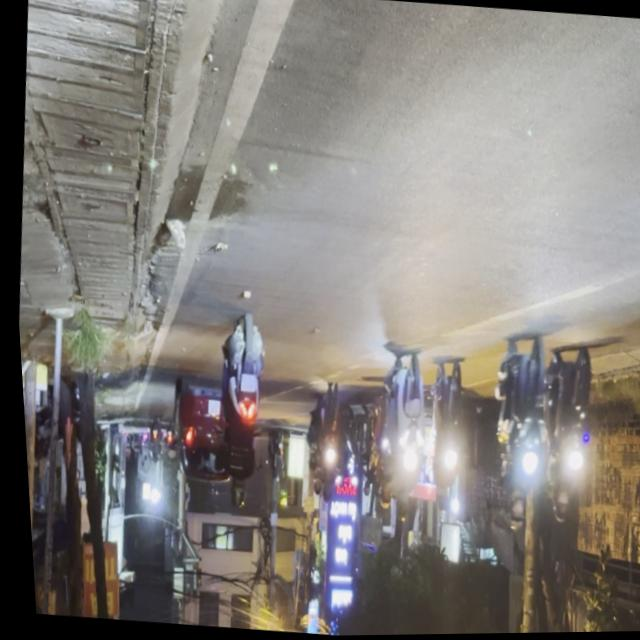helmet: (501, 500, 521, 534)
licenseplate: (472, 331, 556, 538), (524, 341, 601, 533)
motorcyclist: (542, 487, 568, 528)
